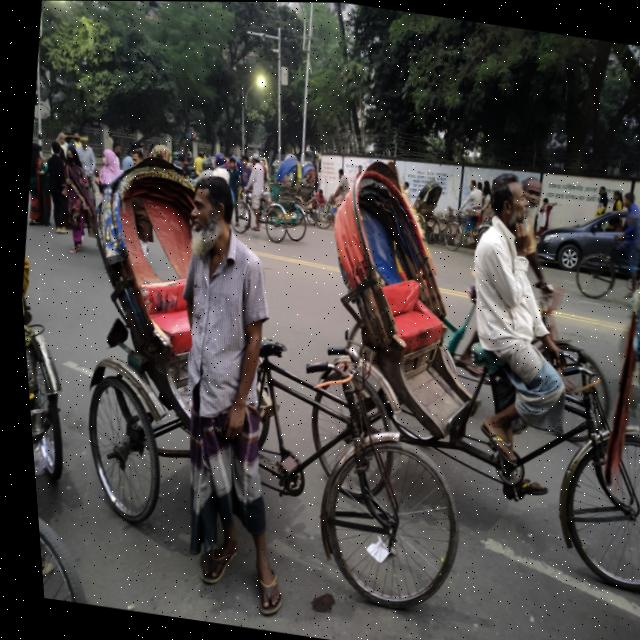rikshaw: (25, 147, 480, 640), (262, 129, 640, 631)
